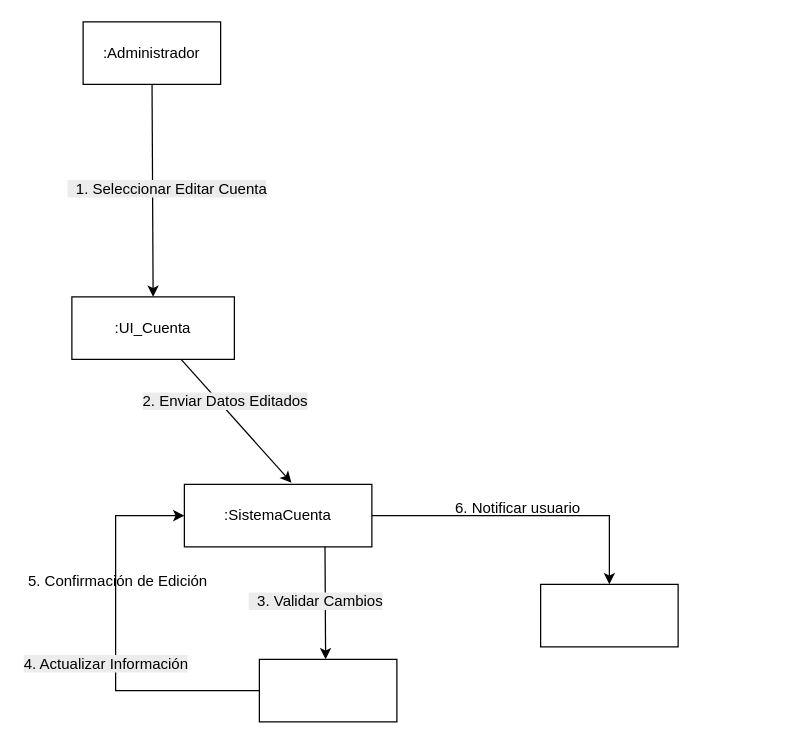
Image size: 785x744. Some labels were removed from this diagram. Each missing label, with the centre of its shape:
:BD_Usuarios: the point at 327,690
:Notificación: the point at 608,615
